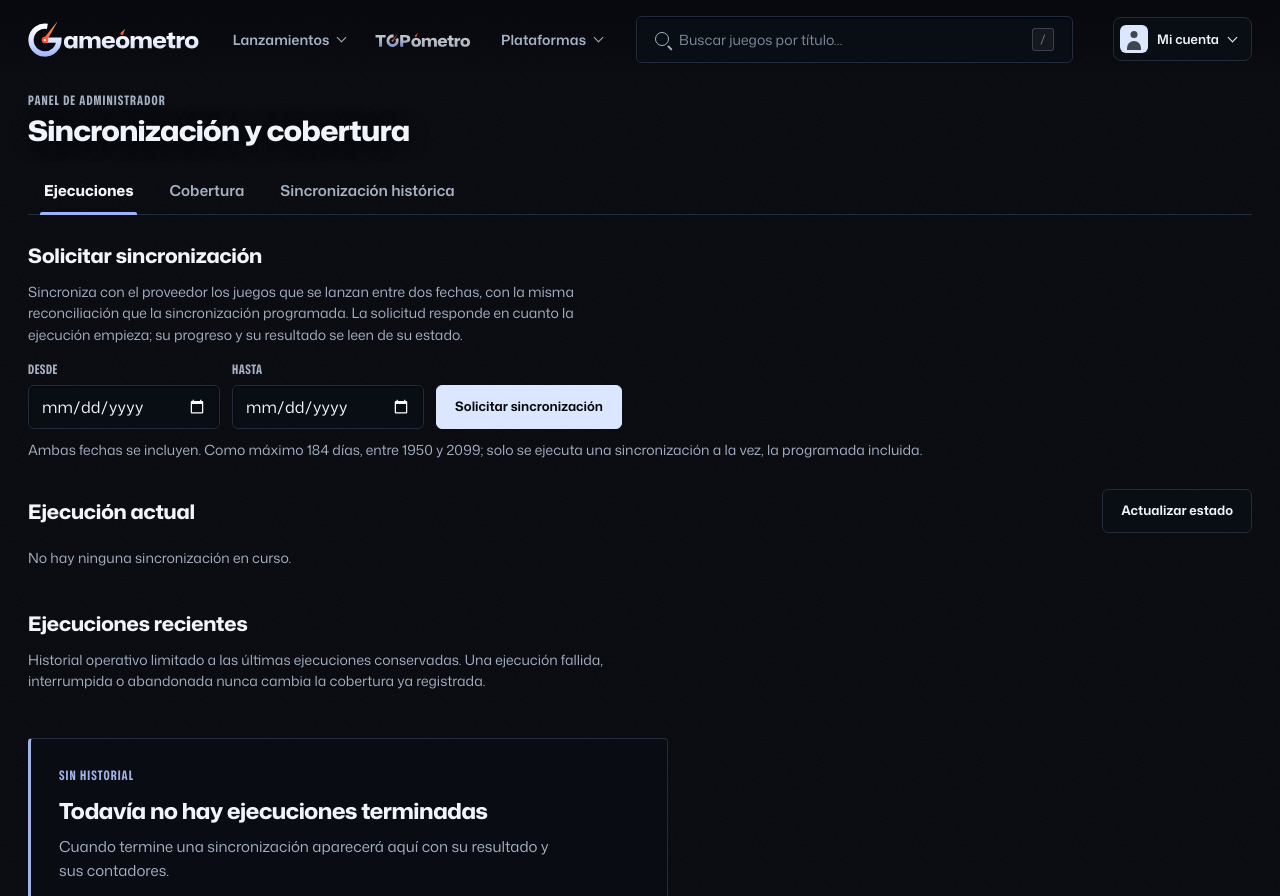
Catalogue synchronization request › accepts an interval with CSRF proof and follows the run through the status until its result
This screenshot has width=1280, height=896.
In the date field labelled "Desde": (124, 407) 28,385 -> 220,429, type "2026-10-01"
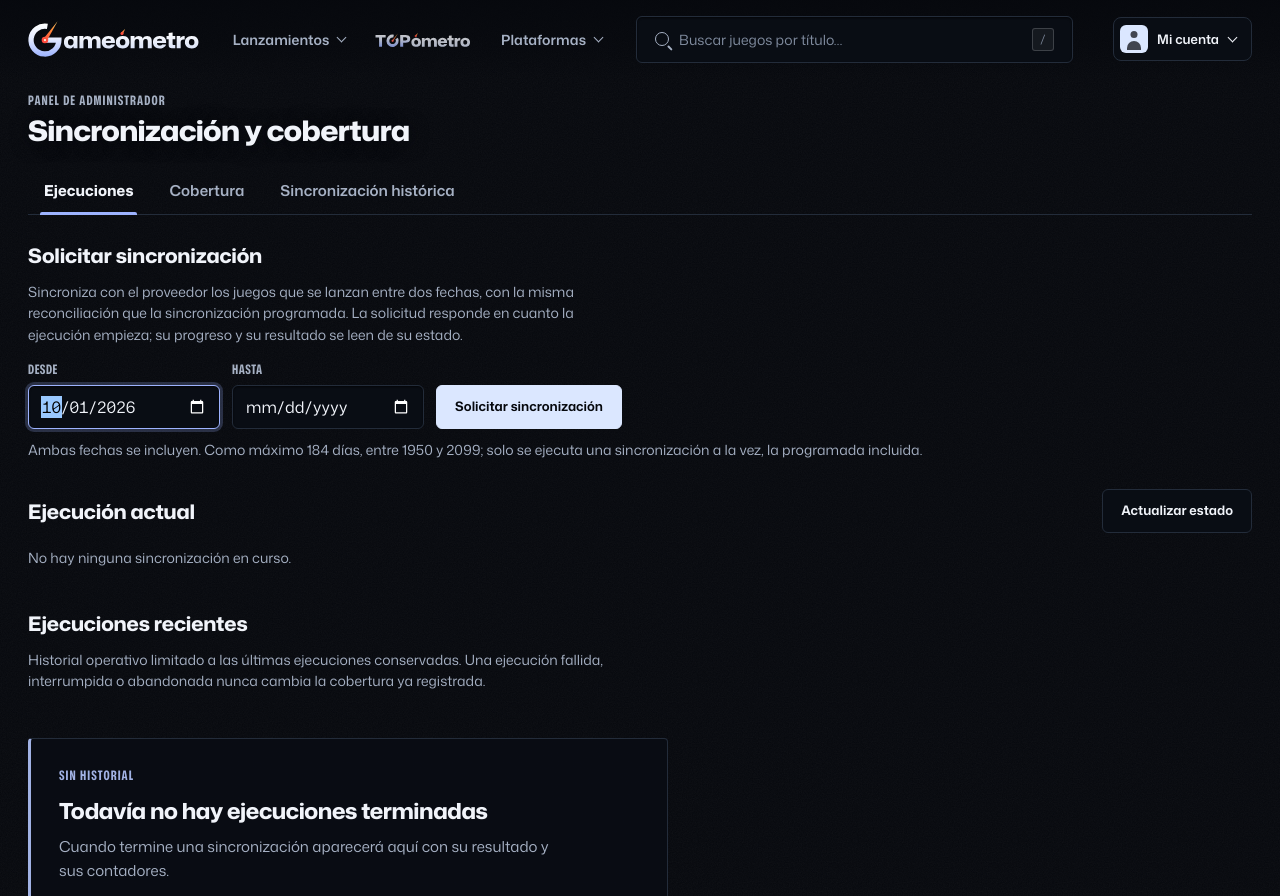
In the date field labelled "Hasta": (328, 407) 232,385 -> 424,429, type "2026-12-31"
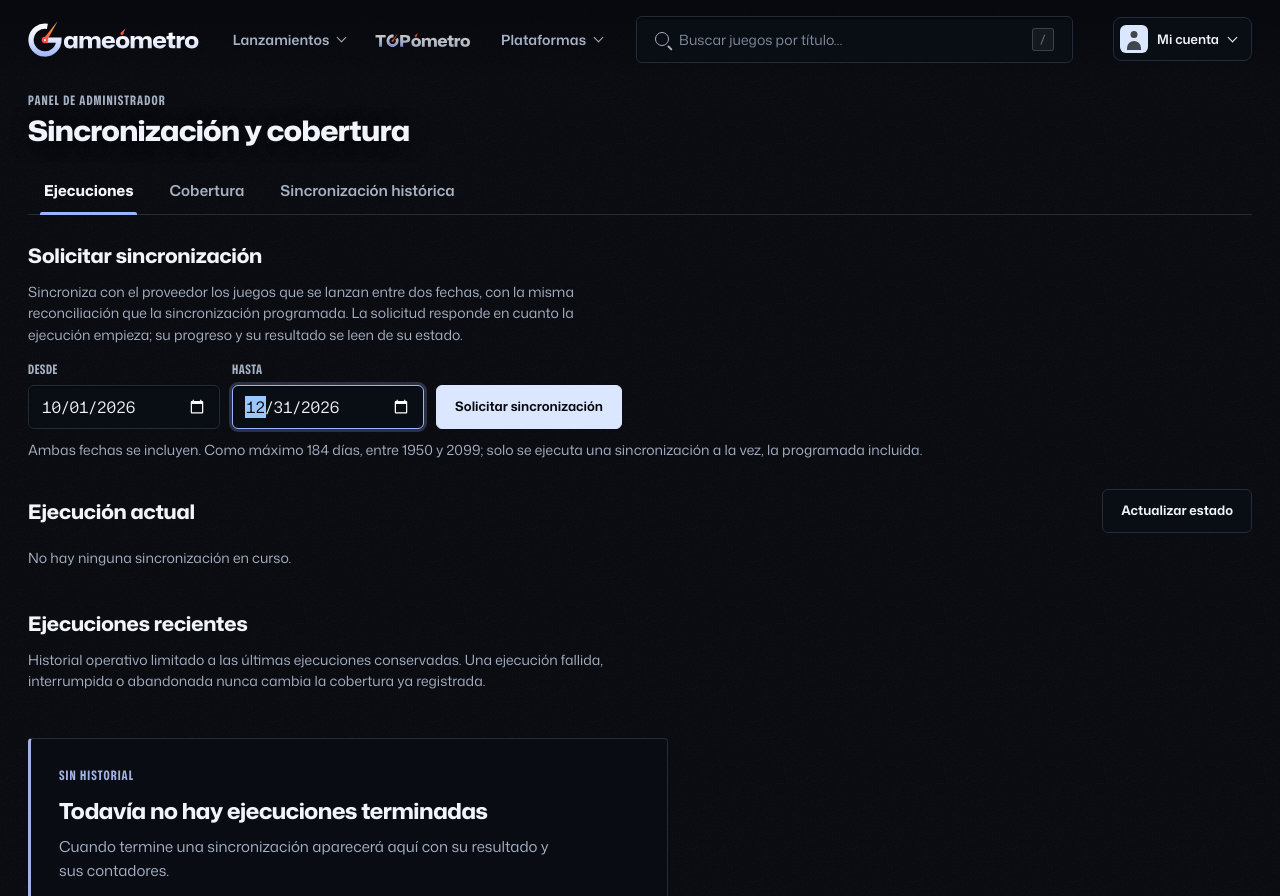
Click the button "Solicitar sincronización": (529, 407) 436,385 -> 622,429
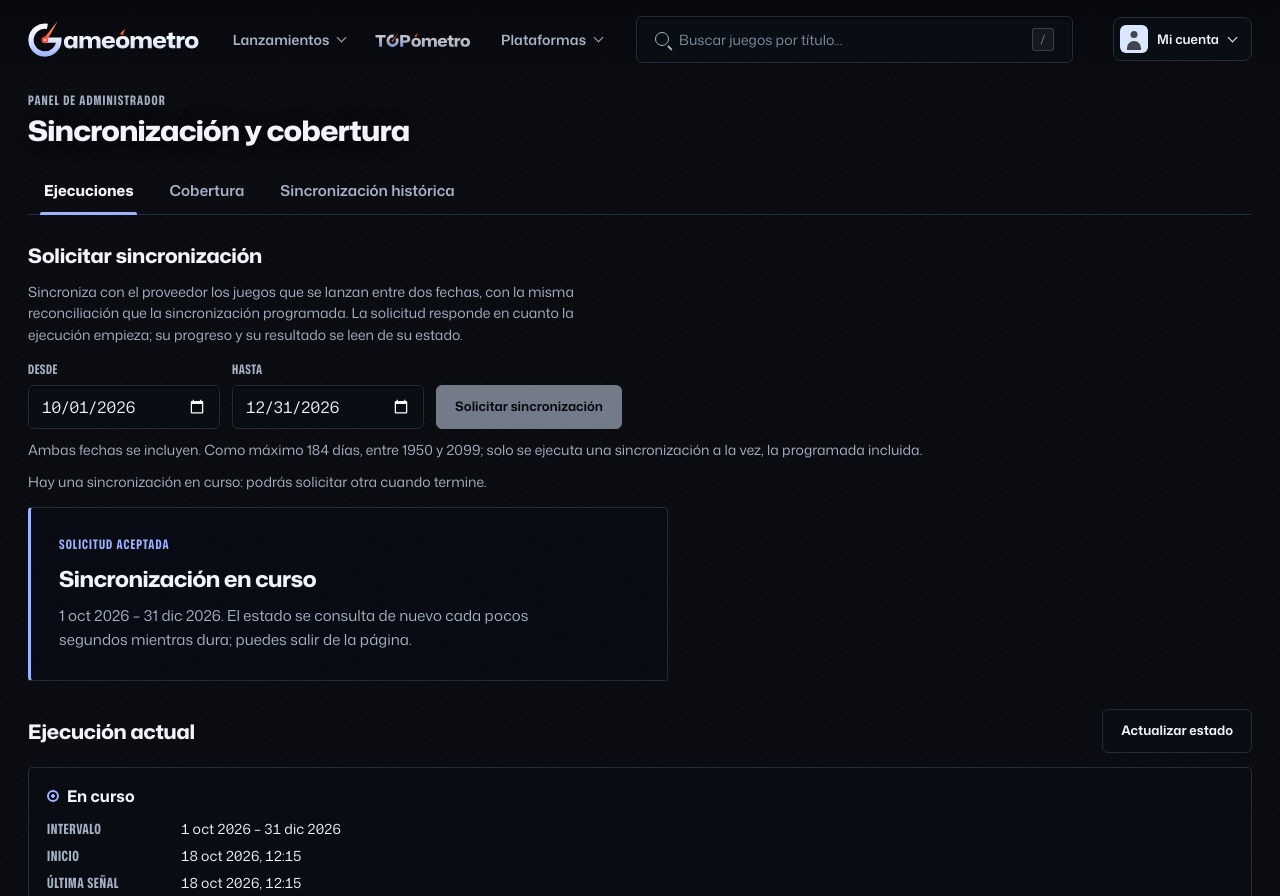
Result: the message "Sincronización en curso" shows "Solicitud aceptada" at 59,535 -> 170,553
Result: the button "Solicitar sincronización" is disabled at 436,385 -> 622,429
Click the button "Actualizar estado": (1177, 731) 1102,709 -> 1252,753
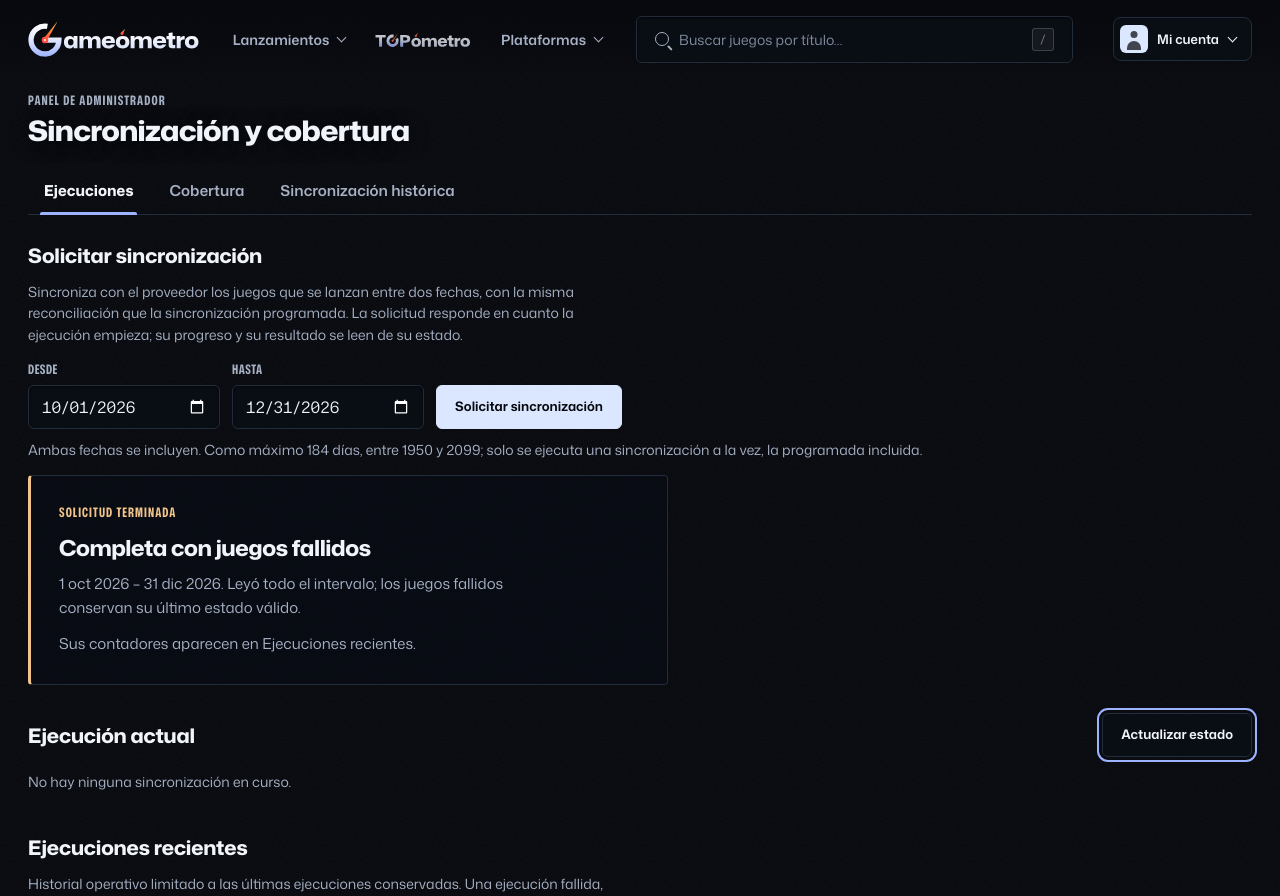
Result: the heading "Completa con juegos fallidos" is shown at 59,535 -> 371,560
Result: the message named "Sincronización en curso" shows "los juegos fallidos conservan su último estado válido" at 59,573 -> 503,618
Result: the button "Solicitar sincronización" is enabled at 436,385 -> 622,429
